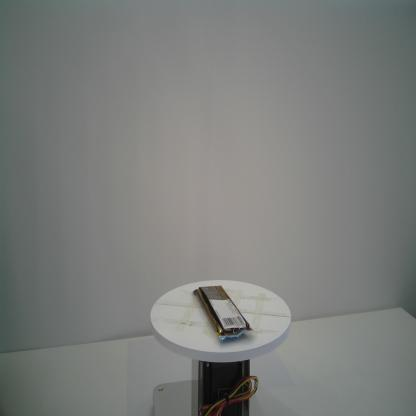Chocolate: (192, 282, 258, 344)
